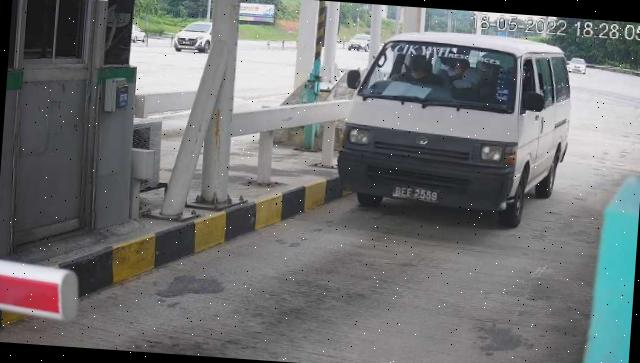License_Plate: (391, 181, 442, 206)
van: (334, 26, 577, 231)
